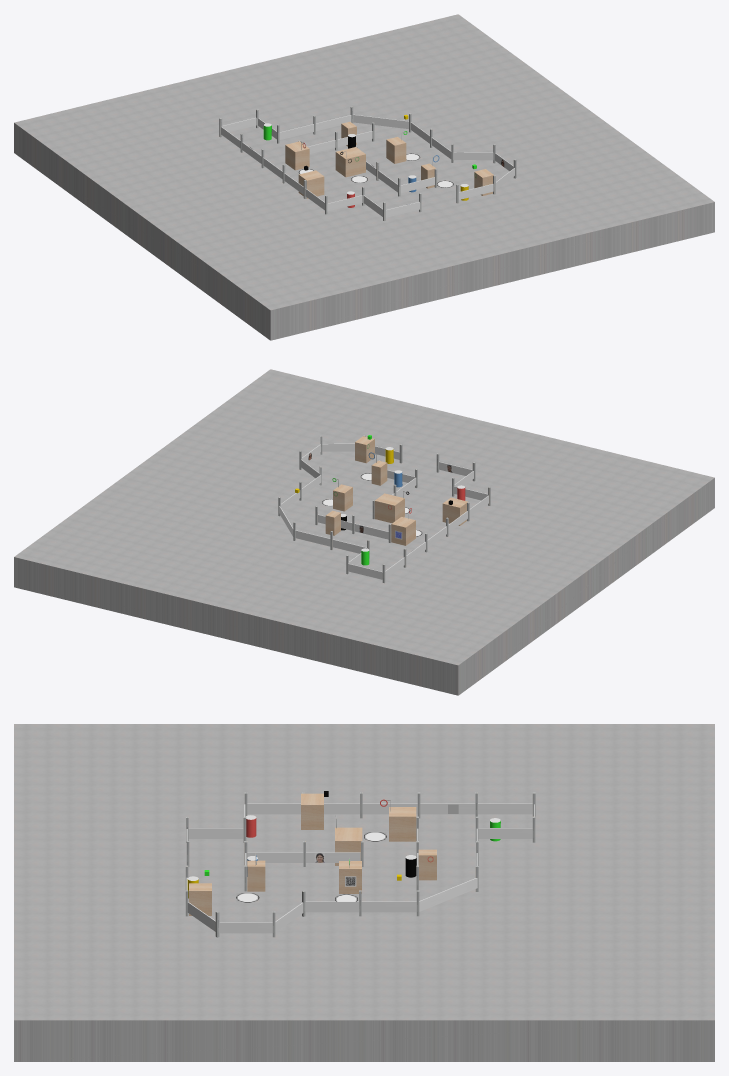
The model's file is map.dae.
3 views of the same model, one above another, from view 1: azimuth 30°, elevation 25°; view 2: azimuth 150°, elevation 25°; view 3: azimuth 270°, elevation 25° (orthographic). The views are drawn at different scales.
Parts seen in each view (by area): view 1: main; view 2: main; view 3: main.
Boxes of the visible parts, bbox=[...] form: main: bbox=[14, 14, 714, 340]; main: bbox=[14, 369, 714, 695]; main: bbox=[14, 724, 714, 1061].
Size of the model in its own units: 15.34 by 15.34 by 1.92.
